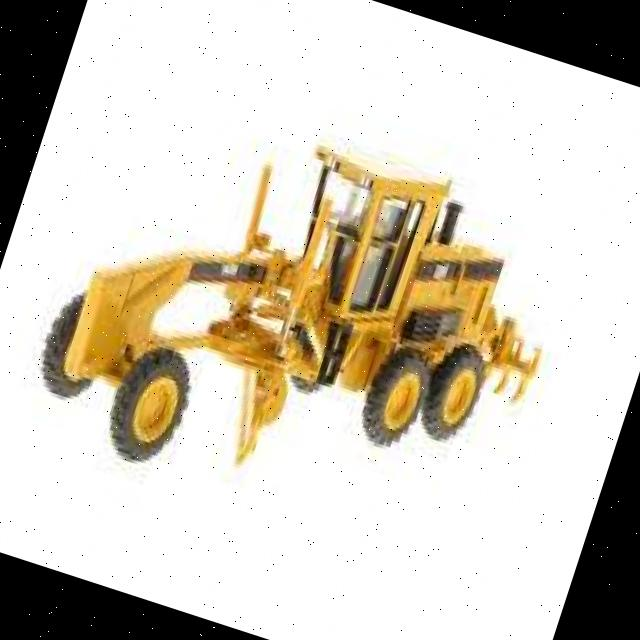Grader: (0, 35, 635, 570)
